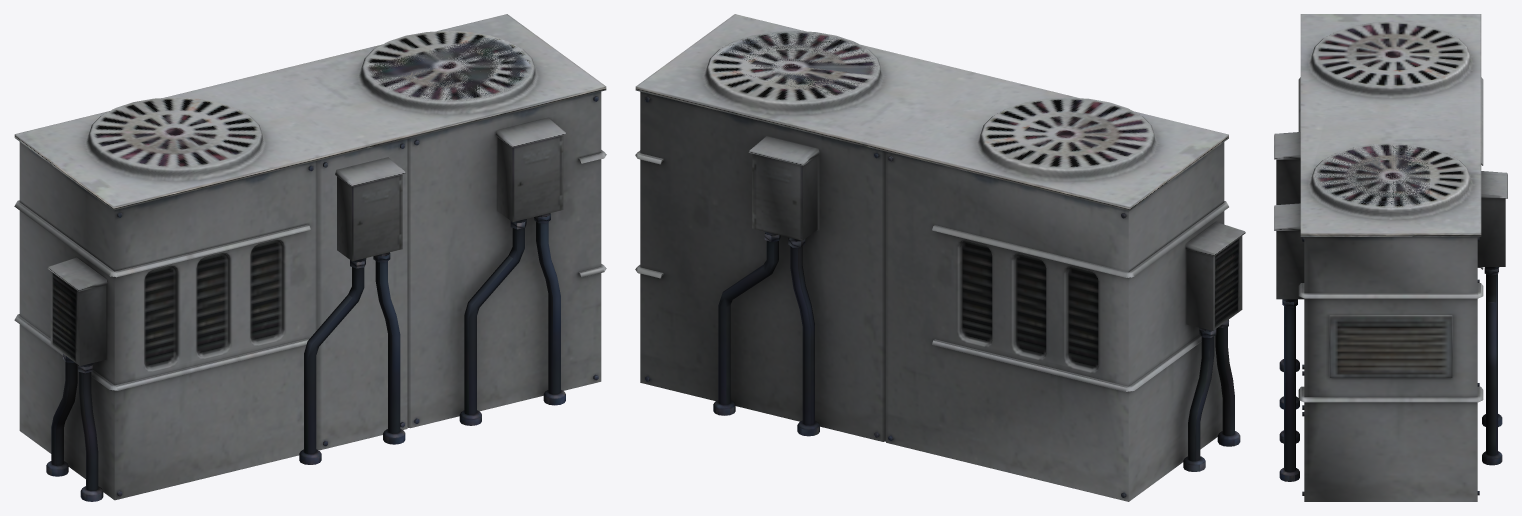
The model's file is transformatorstations.fbx.
The picture shows the model from 3 angles, left to right: view 1: azimuth 30°, elevation 25°; view 2: azimuth 150°, elevation 25°; view 3: azimuth 270°, elevation 25°; orthographic projection. The views are drawn at different scales.
Visible parts, largest first — view 1: transformatorstation_01a, transformatorstation_01b; view 2: transformatorstation_01a, transformatorstation_01b; view 3: transformatorstation_01a, transformatorstation_01b.
Boxes of the visible parts, bbox=[...] form: transformatorstation_01a: bbox=[14, 14, 606, 501]; transformatorstation_01b: bbox=[299, 35, 538, 464]; transformatorstation_01a: bbox=[635, 14, 1245, 501]; transformatorstation_01b: bbox=[703, 31, 886, 442]; transformatorstation_01a: bbox=[1274, 14, 1507, 501]; transformatorstation_01b: bbox=[1274, 132, 1431, 409].
Bounding box in the file's own units: 247 × 139 × 105.
